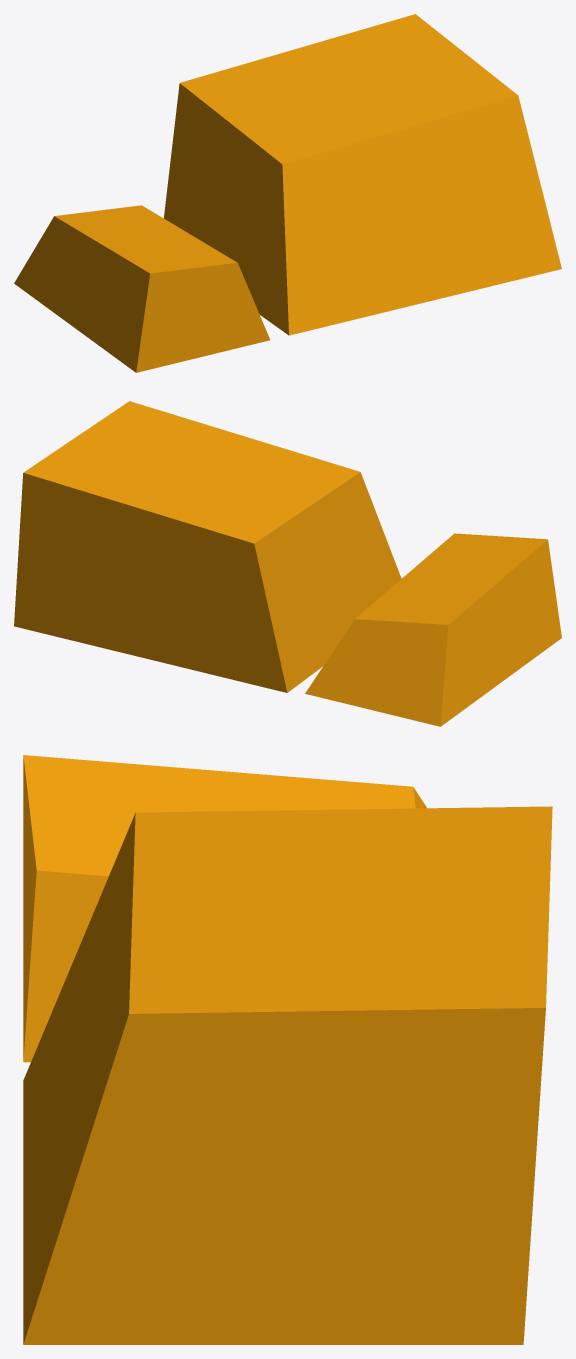
Rendered from Butter.fbx.
The picture shows the model from 3 angles, top to bottom: view 1: azimuth 30°, elevation 25°; view 2: azimuth 150°, elevation 25°; view 3: azimuth 270°, elevation 25°; orthographic projection. The views are drawn at different scales.
Visible parts, largest first — view 1: Butter; view 2: Butter; view 3: Butter.
Part boxes in pixels (x1,y1,x2,y2): Butter: (14, 14, 561, 372); Butter: (14, 401, 561, 726); Butter: (23, 755, 552, 1344).
Size of the model in its own units: 63.1 by 23 by 34.19.
